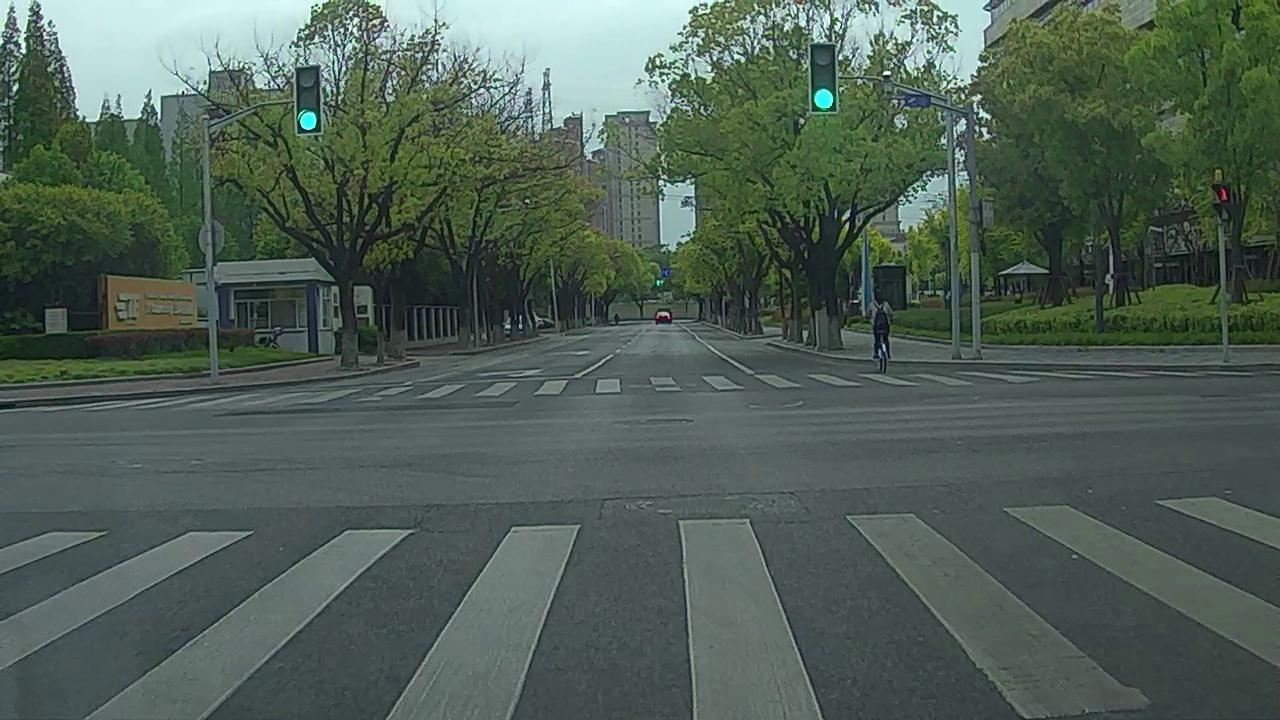traffic_light: (811, 46, 838, 111), (296, 65, 319, 133)
